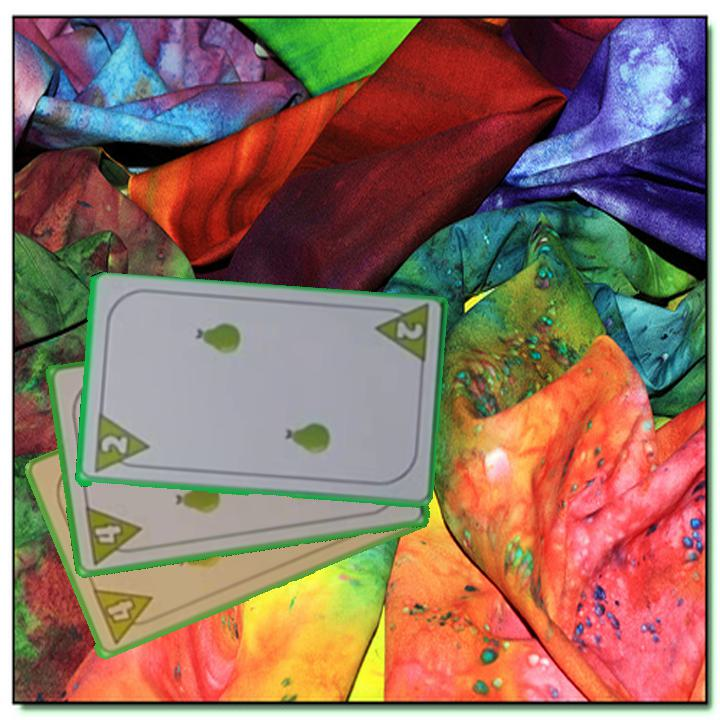2p: (371, 304, 432, 370), (89, 413, 151, 476)
4p: (89, 584, 162, 647), (81, 502, 147, 567)
